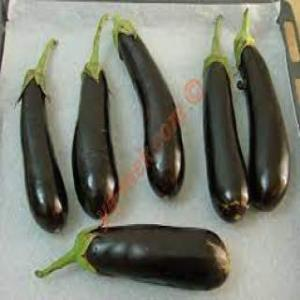eggplant: (112, 15, 182, 195), (74, 222, 230, 288), (233, 34, 289, 206), (200, 47, 248, 219), (19, 63, 66, 234), (72, 53, 120, 217)
